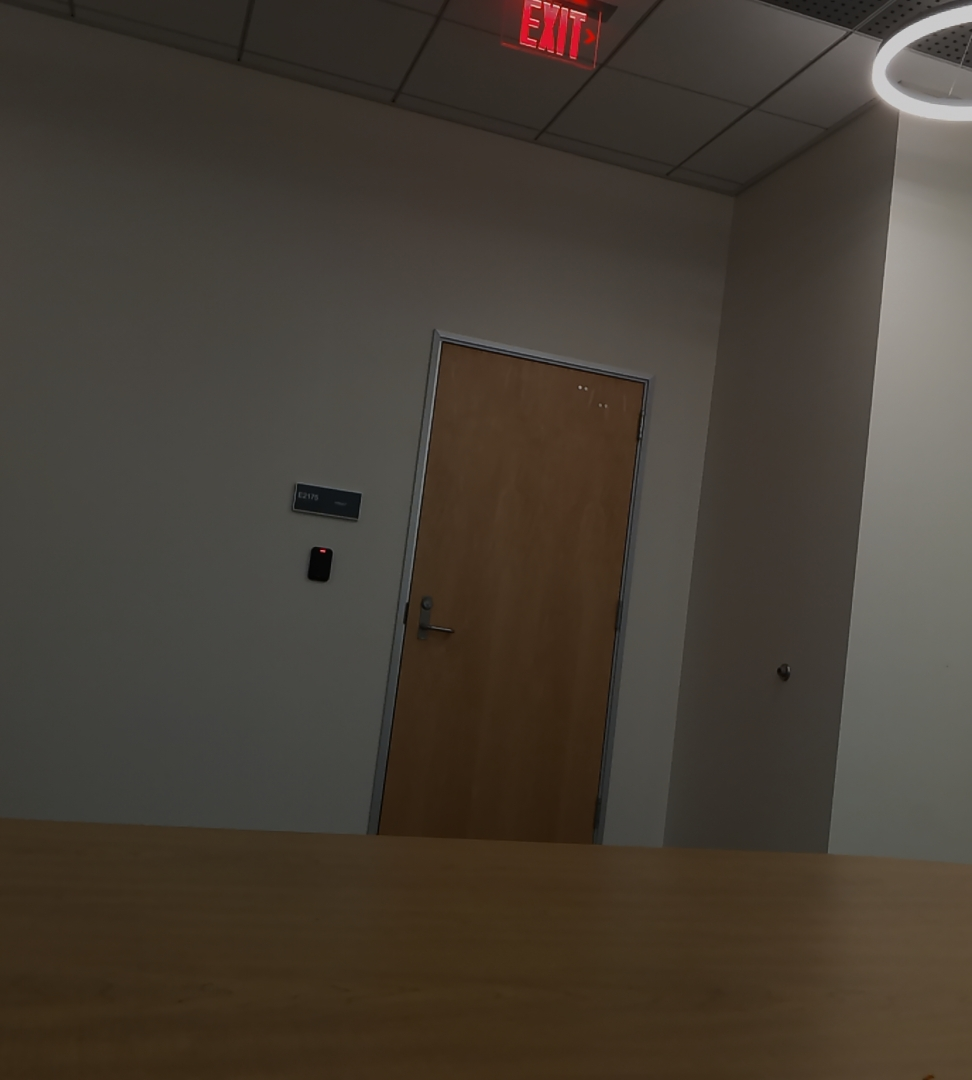emergency_exit: (502, 0, 610, 72)
